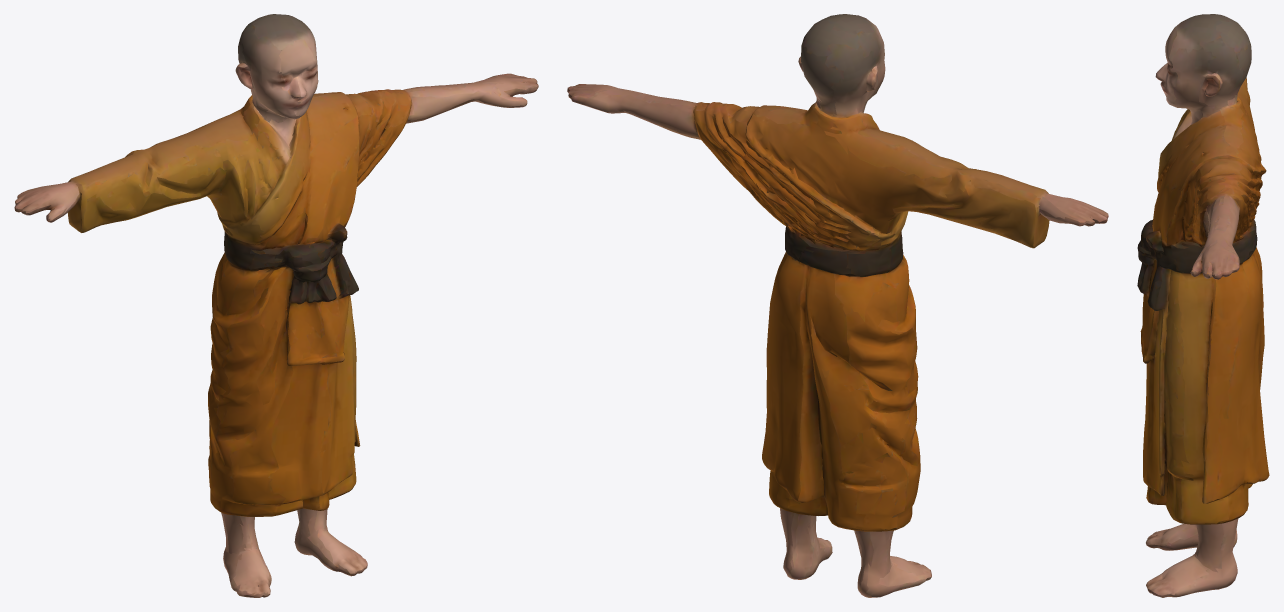
The model's file is CHAR-001.glb.
3 views of the same model, side by side, from view 1: azimuth 30°, elevation 25°; view 2: azimuth 150°, elevation 25°; view 3: azimuth 270°, elevation 25° (orthographic). The views are drawn at different scales.
Parts seen in each view (by area): view 1: world; view 2: world; view 3: world.
Part boxes in pixels (x1=…): world: x1=14, y1=14, x2=538, y2=597; world: x1=567, y1=14, x2=1108, y2=597; world: x1=1137, y1=14, x2=1269, y2=597.
Bounding box in the file's own units: 1.4 × 1.4 × 0.3054.
Materials: 1 (1 with a texture image).
